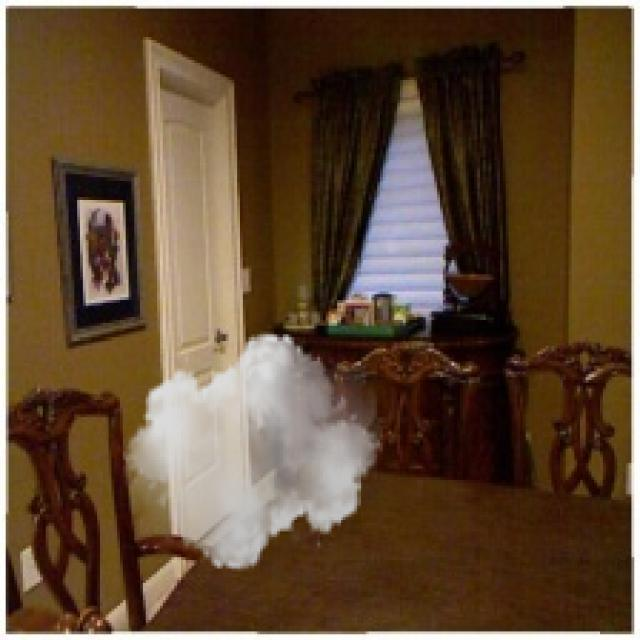Smoke: (123, 323, 383, 580)
